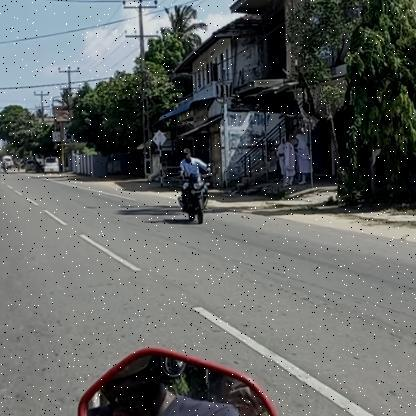motorcycle: (176, 172, 212, 226)
